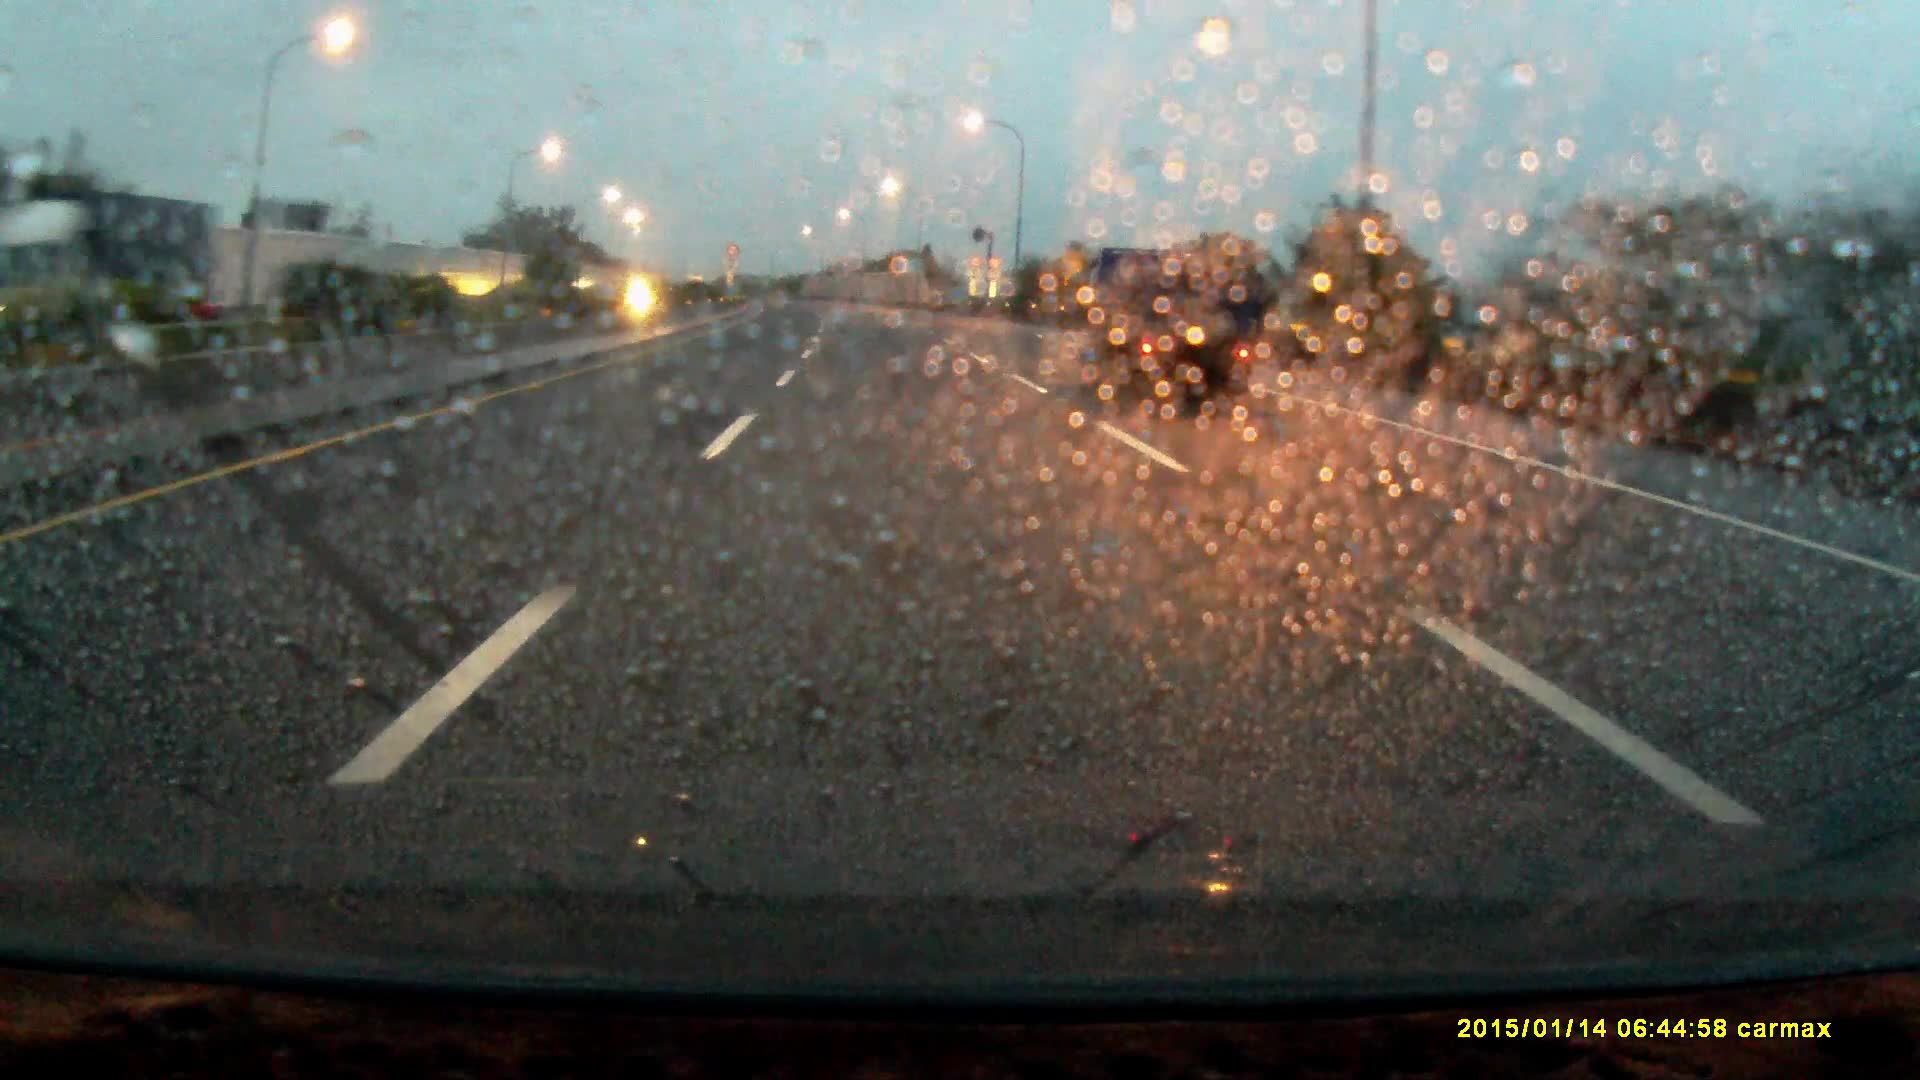vehicle: (1076, 247, 1250, 409), (55, 195, 204, 332)
